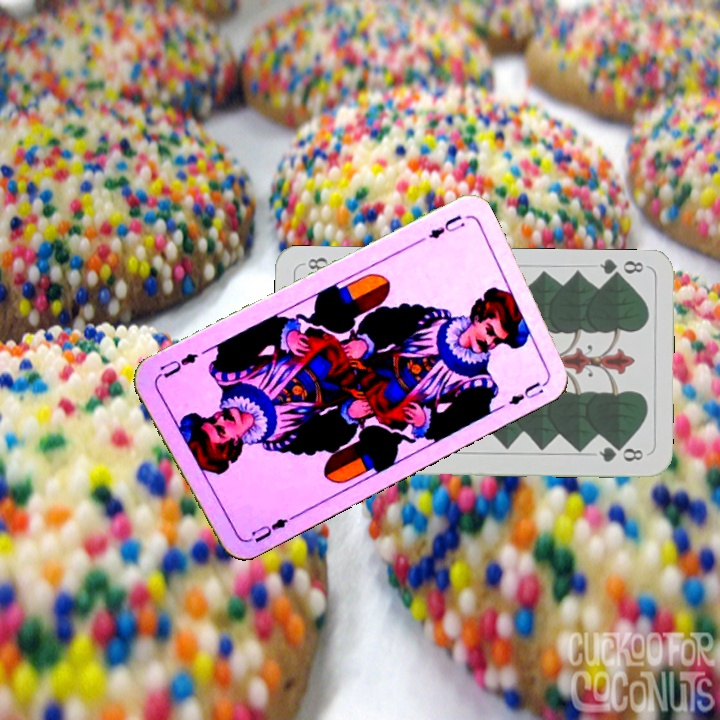EU: (240, 512, 297, 546), (424, 211, 468, 242)
G8: (596, 256, 646, 283)
